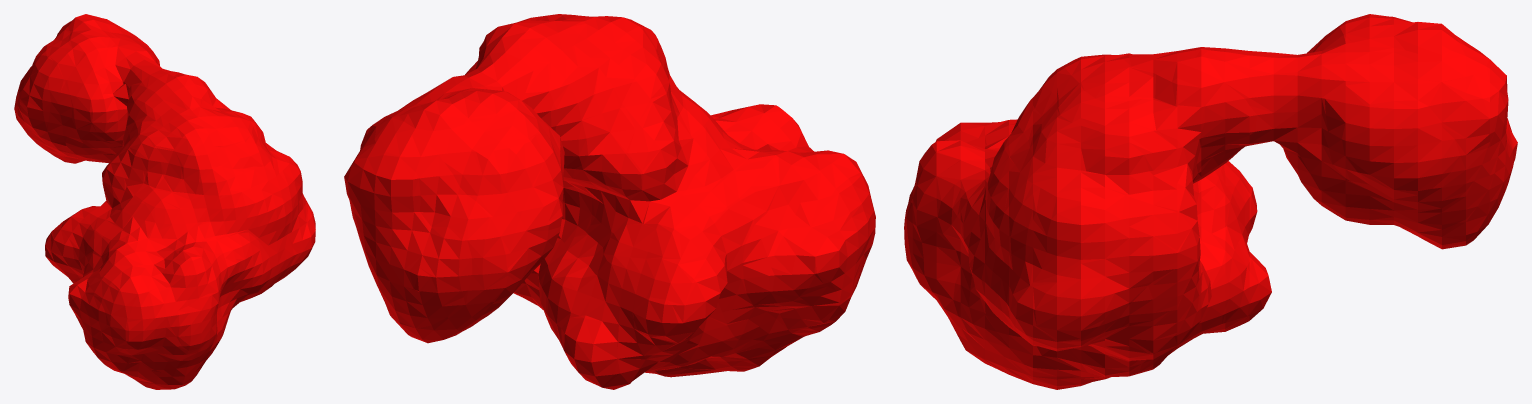
File: rluC_coarse.dae
3 renders of one model, left to right at view 1: azimuth 30°, elevation 25°; view 2: azimuth 150°, elevation 25°; view 3: azimuth 270°, elevation 25°, orthographic. The views are drawn at different scales.
Parts seen in each view (by area): view 1: rluC; view 2: rluC; view 3: rluC.
Part boxes in pixels (<box>): rluC: <box>14,14,315,389</box>; rluC: <box>344,14,875,389</box>; rluC: <box>904,14,1517,389</box>.
Size of the model in its own units: 56.76 by 56.34 by 80.94.
